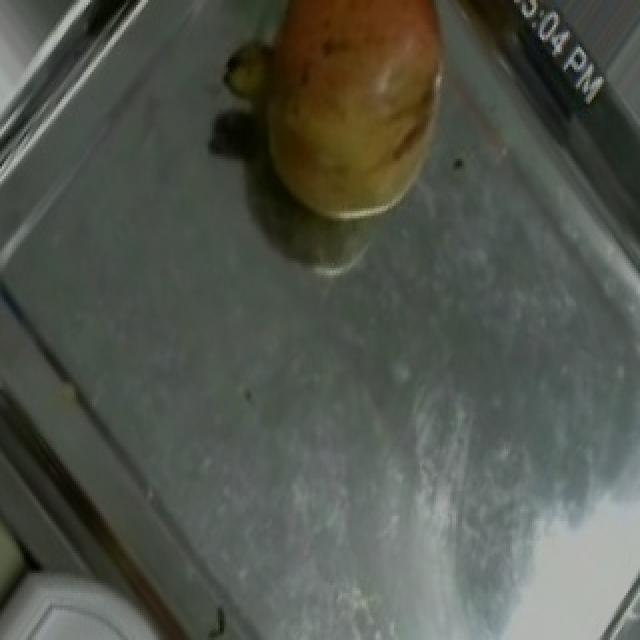fruit: (224, 0, 478, 253)
